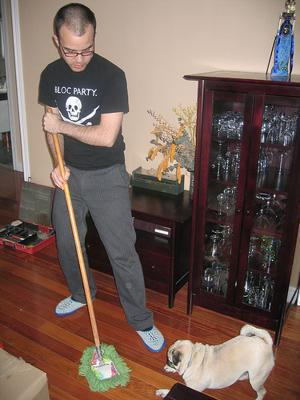person: (38, 3, 166, 358)
